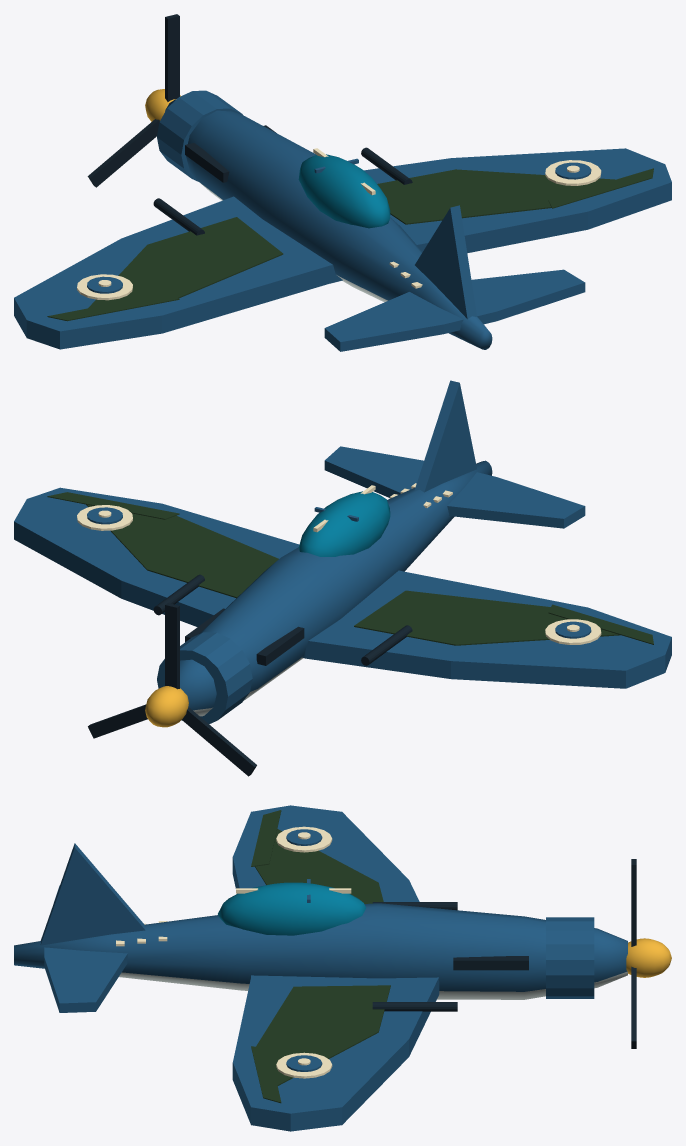
File: swift.glb
3 views of the same model, one above another, from view 1: azimuth 30°, elevation 25°; view 2: azimuth 150°, elevation 25°; view 3: azimuth 270°, elevation 25° (orthographic).
Visible parts, largest first — view 1: swift-airframe, blade_0_2.001, blade_0_0.001; view 2: swift-airframe, blade_0_2.001, blade_0_0.001, blade_0_1.001; view 3: swift-airframe, blade_0_0.001, blade_0_1.001.
Boxes of the visible parts, x1=… form: swift-airframe: x1=14, y1=89, x2=671, y2=351; blade_0_2.001: x1=87, y1=119, x2=159, y2=187; blade_0_0.001: x1=165, y1=14, x2=179, y2=101; swift-airframe: x1=14, y1=380, x2=671, y2=727; blade_0_2.001: x1=182, y1=707, x2=256, y2=776; blade_0_0.001: x1=165, y1=603, x2=179, y2=689; blade_0_1.001: x1=88, y1=704, x2=147, y2=738; swift-airframe: x1=14, y1=805, x2=671, y2=1131; blade_0_0.001: x1=631, y1=859, x2=636, y2=946; blade_0_1.001: x1=631, y1=966, x2=636, y2=1048.
Bounding box in the file's own units: 2.4 × 0.6041 × 2.17.
